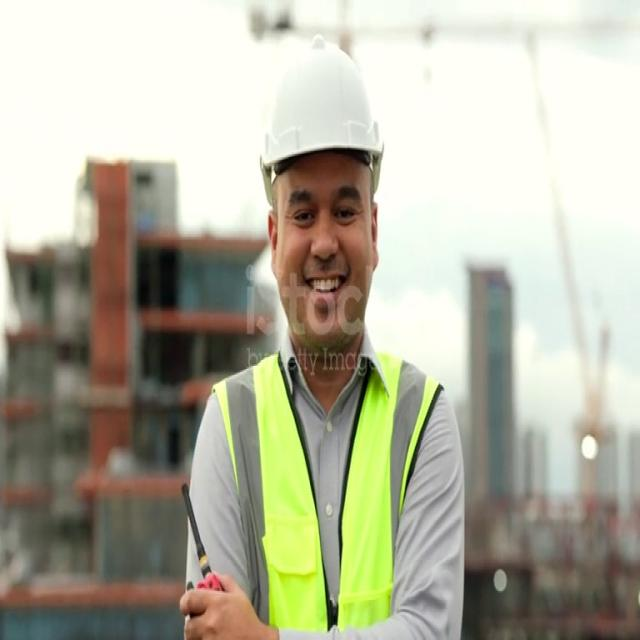capacete: (252, 24, 396, 201)
